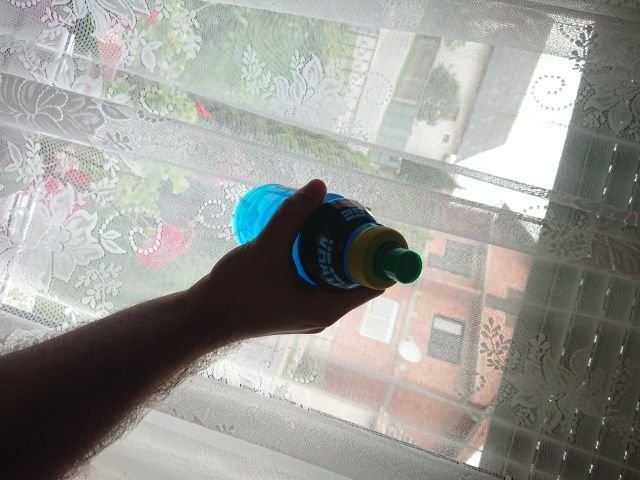Vindi Iso Sport Forest Strawberries 500mL: (230, 181, 424, 294)
